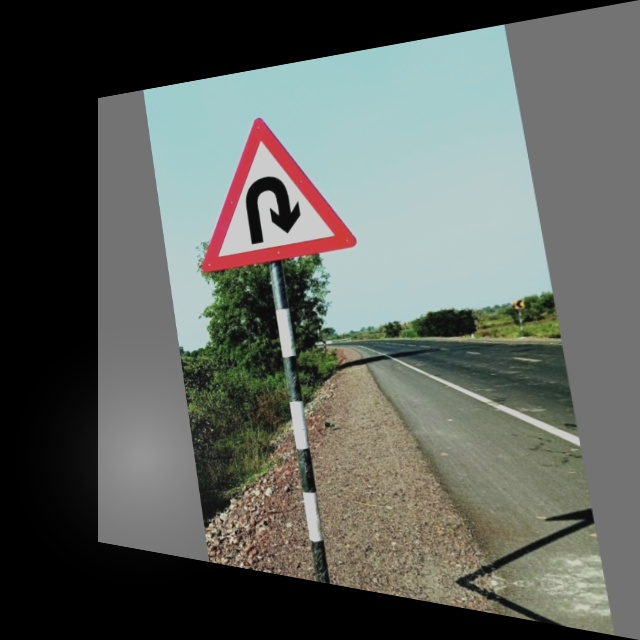Right_Hair_Pin_Bend: (192, 89, 355, 275)
